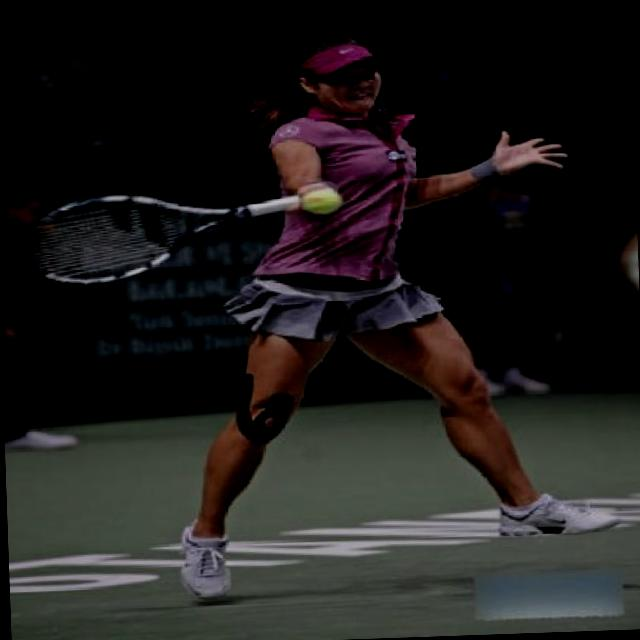Person: (119, 5, 603, 601)
